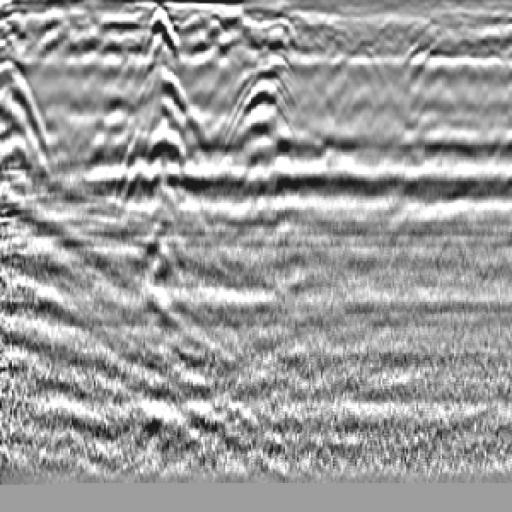metalic: (130, 3, 198, 279)
nonmetalic: (219, 39, 303, 182), (1, 36, 63, 213)
